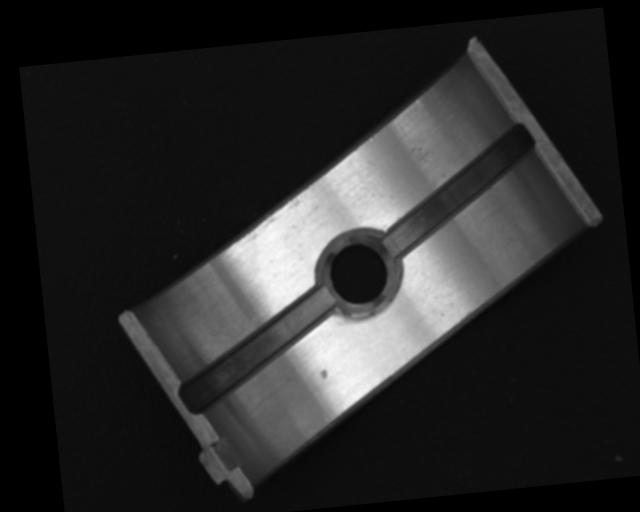bruise: (319, 369, 330, 381)
gap: (374, 123, 545, 258), (170, 284, 342, 414)
hole: (322, 230, 399, 317)
